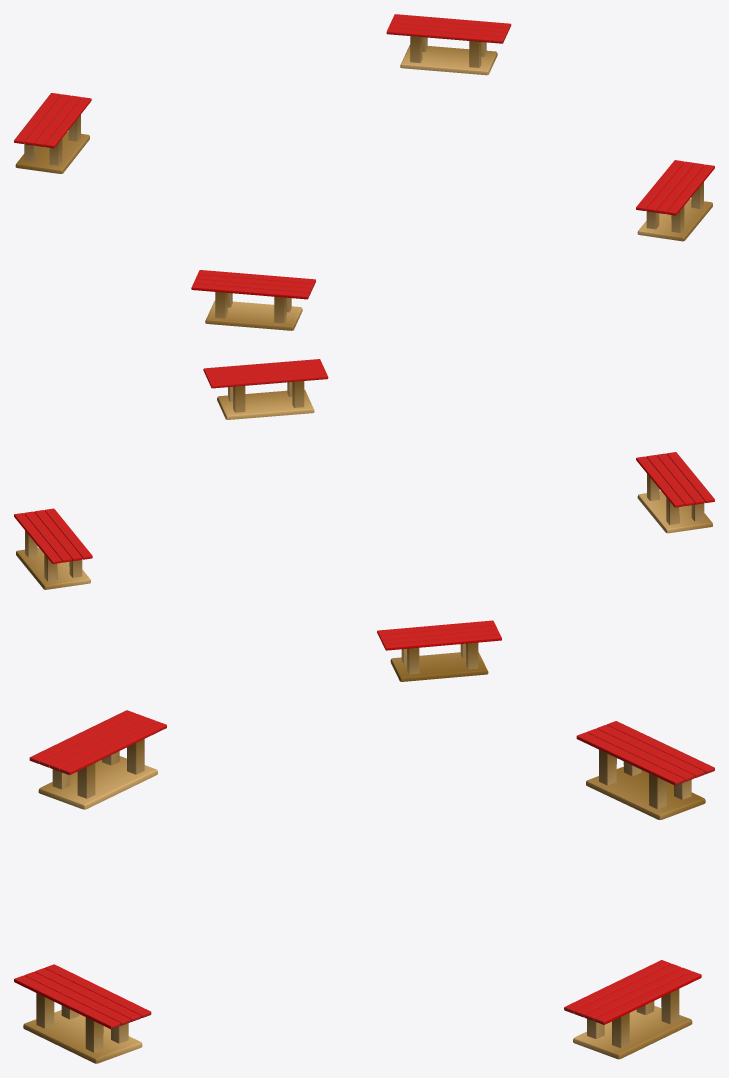
The model's file is Benches_Final.fbx.
3 renders of one model, top to bottom at view 1: azimuth 30°, elevation 25°; view 2: azimuth 150°, elevation 25°; view 3: azimuth 270°, elevation 25°, orthographic. The views are drawn at different scales.
Parts seen in each view (by area): view 1: Bench; view 2: Bench; view 3: Bench.
Part boxes in pixels (<box>): Bench: <box>14,14,714,330</box>; Bench: <box>14,359,714,681</box>; Bench: <box>14,710,714,1063</box>.
Size of the model in its own units: 888 by 55.57 by 831.
1 material, 1 textured.
